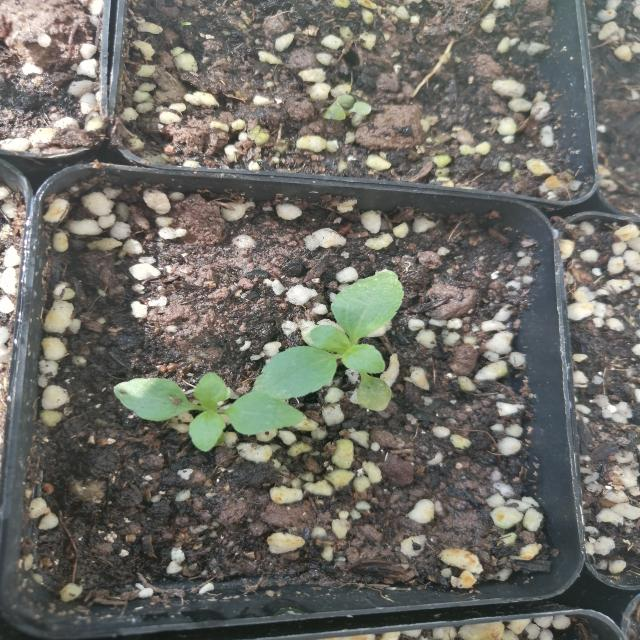billygoat_weed: (243, 274, 413, 418), (120, 369, 296, 443)
